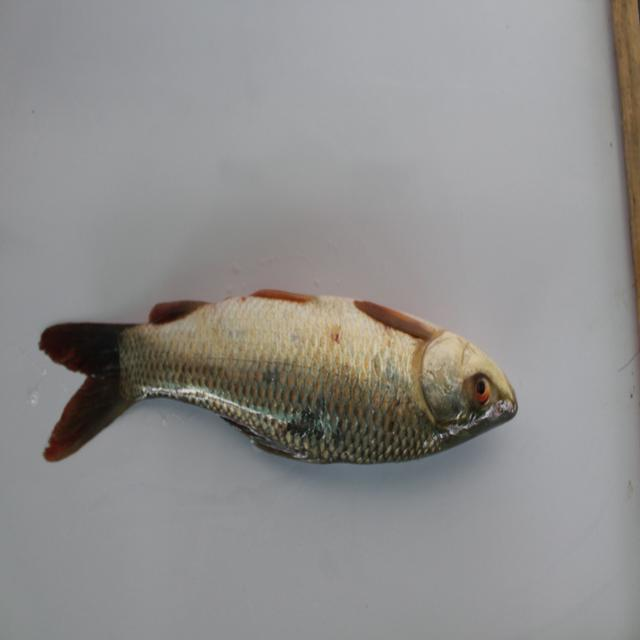Rohu: (37, 288, 533, 497)
